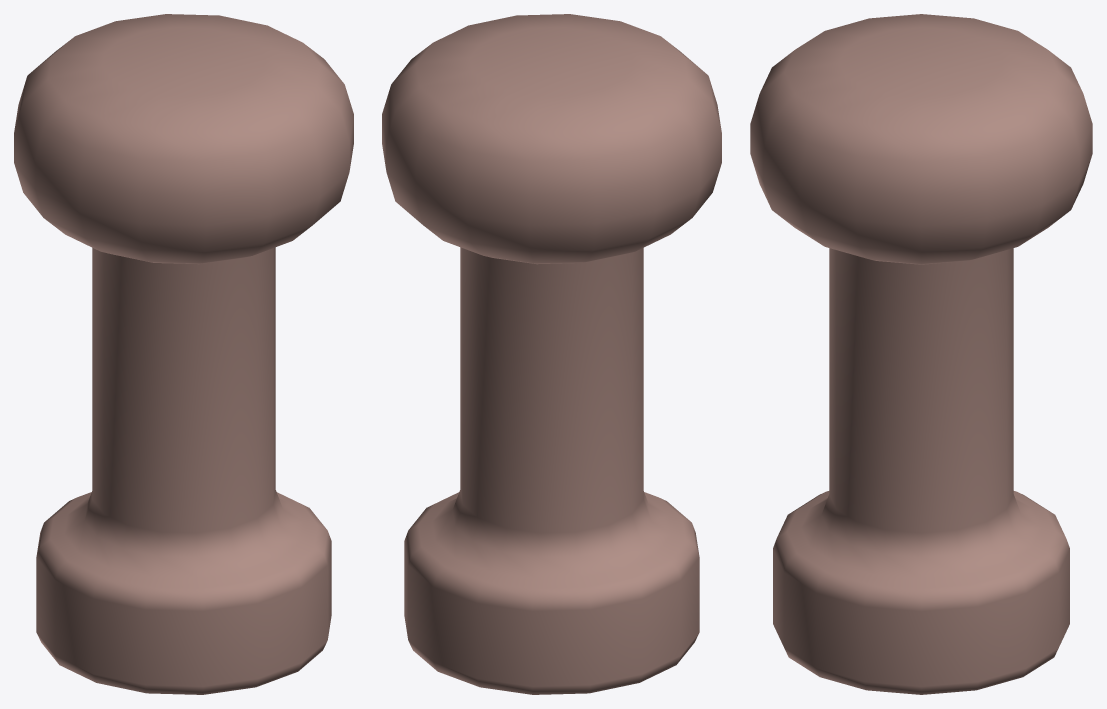
The model's file is Store_18_Pepper_shaker_1.glb.
3 renders of one model, left to right at view 1: azimuth 30°, elevation 25°; view 2: azimuth 150°, elevation 25°; view 3: azimuth 270°, elevation 25°, orthographic.
Visible parts, largest first — view 1: Store_18_Pepper_shaker_1; view 2: Store_18_Pepper_shaker_1; view 3: Store_18_Pepper_shaker_1.
Part boxes in pixels (bbox=[...]): Store_18_Pepper_shaker_1: bbox=[14, 14, 353, 694]; Store_18_Pepper_shaker_1: bbox=[382, 14, 721, 694]; Store_18_Pepper_shaker_1: bbox=[750, 14, 1092, 694].
Size of the model in its own units: 0.1219 by 0.2265 by 0.1219.
Materials: 1 (1 with a texture image).
